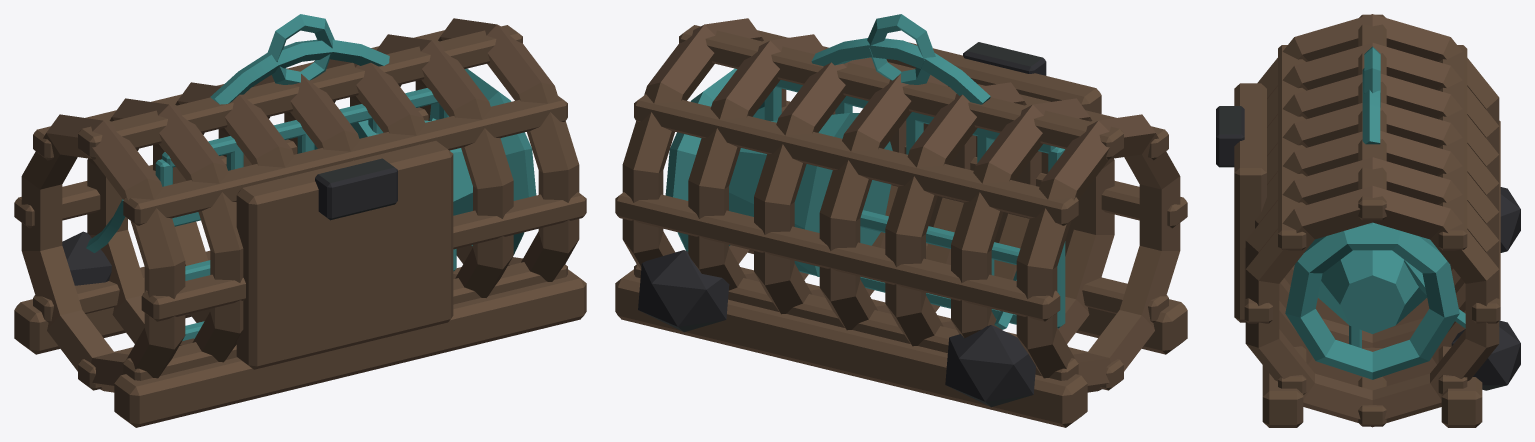
File: prop_lobster_trap_a.glb
3 views of the same model, side by side, from view 1: azimuth 30°, elevation 25°; view 2: azimuth 150°, elevation 25°; view 3: azimuth 270°, elevation 25° (orthographic). The views are drawn at different scales.
Visible parts, largest first — view 1: lobster_trap_door, lobster_trap_bridle, lobster_trap_latch; view 2: lobster_trap_door, lobster_trap_bridle, lobster_trap_latch; view 3: lobster_trap_door, lobster_trap_bridle, lobster_trap_latch.
Part boxes in pixels (left/top/right/bottom): lobster_trap_door: left=14, top=18, right=586, bottom=427; lobster_trap_bridle: left=86, top=14, right=536, bottom=340; lobster_trap_latch: left=62, top=158, right=397, bottom=285; lobster_trap_door: left=615, top=18, right=1187, bottom=427; lobster_trap_bridle: left=665, top=14, right=1065, bottom=329; lobster_trap_latch: left=638, top=42, right=1046, bottom=407; lobster_trap_door: left=1234, top=14, right=1500, bottom=427; lobster_trap_bridle: left=1285, top=46, right=1465, bottom=379; lobster_trap_latch: left=1216, top=106, right=1520, bottom=390.
Size of the model in its own units: 1.16 by 0.798 by 0.7501.
